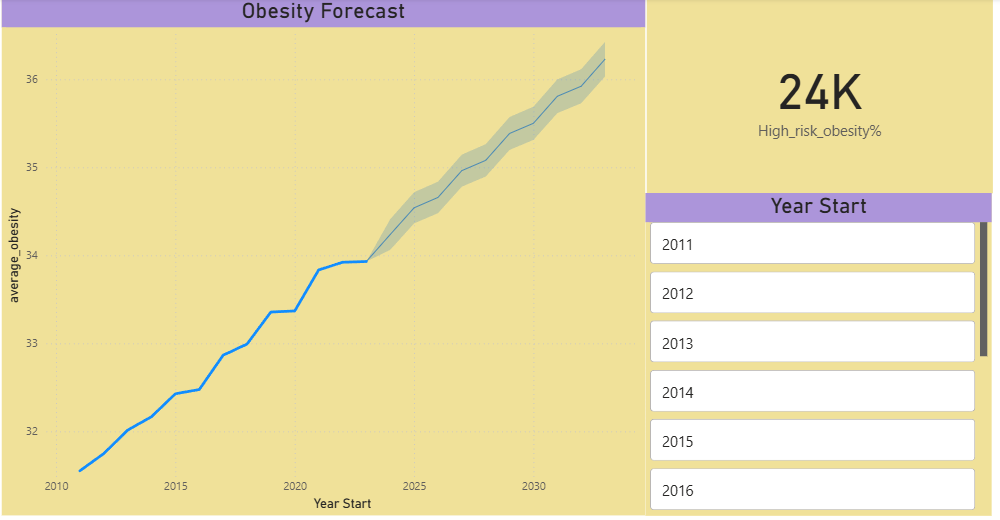

Layout of this report page (visuals, bound fields, positions):
{"tool":"powerbi","page":{"name":"Avg obesity by year vs stratification","canvas":[1280,720],"ordinal":8},"visuals":[{"type":"lineChart","fields":{"Category":["Fact tab.Year Start"],"Y":["Fact tab.average_obesity"],"Series":["Stratification dimension.Stratification Category"]},"box":[90.6,0,784.9,635.3],"z":0},{"type":"slicer","fields":{"Values":["Stratification dimension.Stratification Category"]},"box":[886.5,0,393.8,215.4],"z":1000}]}

Visuals, with their boxes on the page's 1280x720 design canvas (x1, y1, x2, y2). These are canvas units, not pixel positions in the 1000x520 screenshot, which may show the page scaled, cropped or inside an application window:
lineChart - Fact tab.Year Start x Fact tab.average_obesity: <bbox>91, 0, 876, 635</bbox>
slicer - Stratification dimension.Stratification Category: <bbox>886, 0, 1280, 215</bbox>
